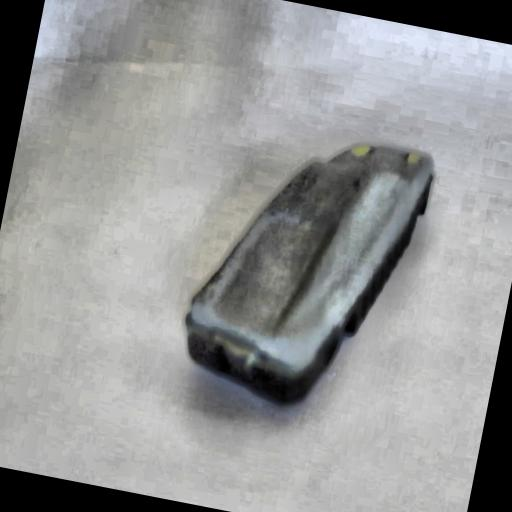normal_car: (166, 108, 440, 429)
